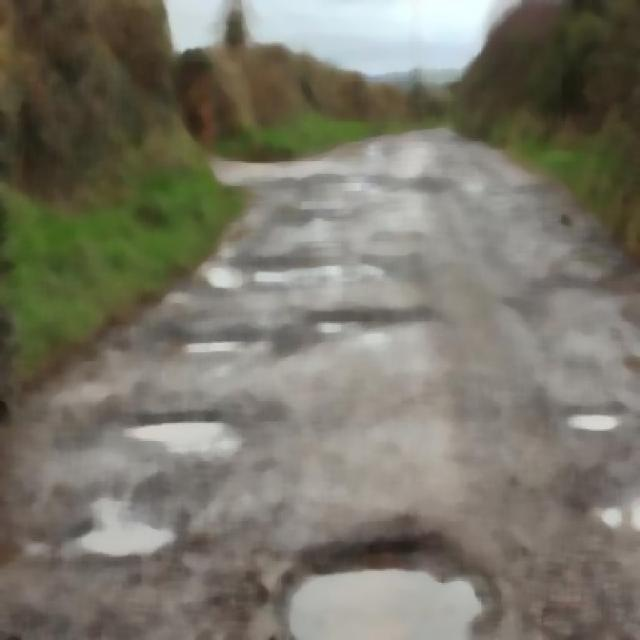Pothole: (288, 474, 466, 638), (62, 467, 167, 558), (138, 390, 217, 479)
